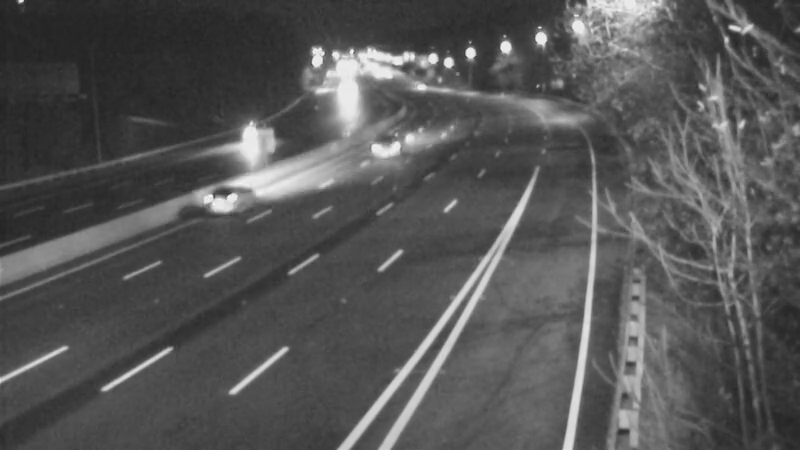vehicle: (202, 157, 282, 237), (390, 60, 440, 110), (366, 119, 416, 169), (225, 118, 275, 168), (322, 72, 372, 122)
